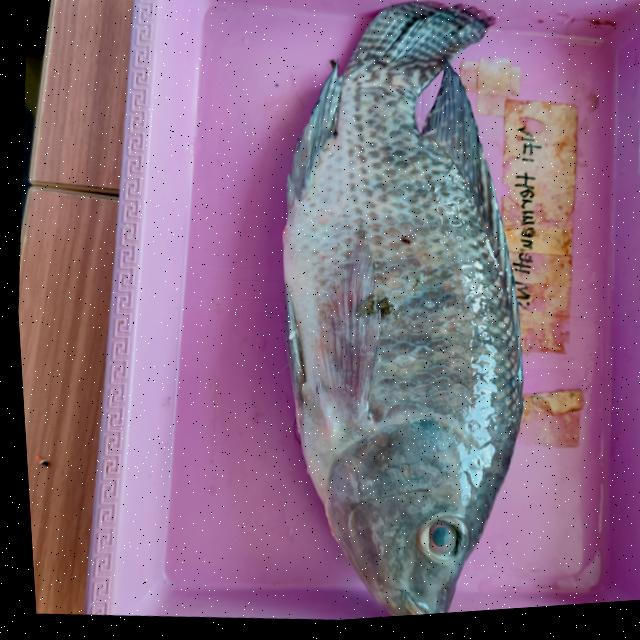Fresh: (245, 0, 557, 497), (374, 497, 467, 579)
